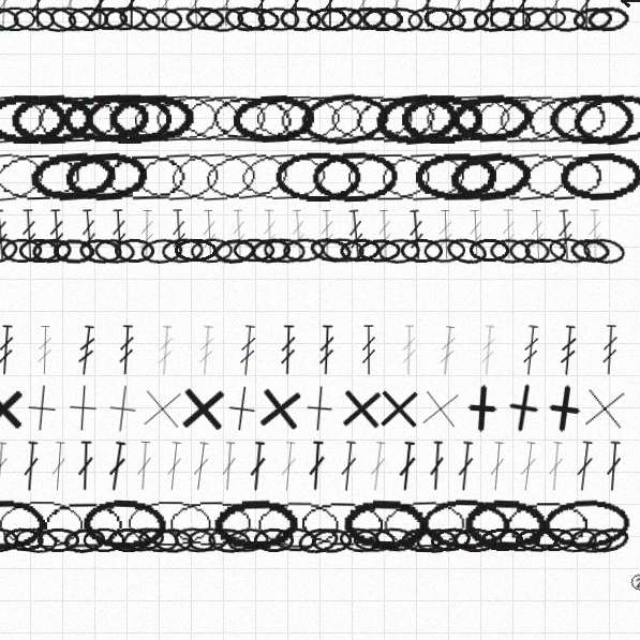chain: (220, 177, 305, 232), (311, 124, 397, 177), (449, 178, 531, 232), (359, 124, 441, 177), (380, 124, 462, 177), (520, 124, 602, 177), (483, 178, 565, 231), (58, 179, 141, 231), (385, 179, 469, 230), (154, 125, 237, 176), (189, 179, 272, 230), (91, 179, 172, 231), (0, 178, 77, 232), (538, 504, 621, 554), (226, 125, 307, 176), (157, 179, 238, 230), (517, 179, 598, 230), (564, 124, 640, 178), (255, 180, 337, 230), (451, 125, 531, 176), (175, 126, 258, 175), (25, 180, 108, 229), (247, 126, 328, 176), (89, 126, 171, 175), (201, 126, 283, 175), (291, 126, 373, 175), (338, 126, 420, 175), (427, 126, 509, 175), (495, 126, 577, 175), (543, 126, 625, 175), (387, 504, 469, 553), (425, 504, 507, 553), (0, 125, 77, 177), (553, 180, 633, 230), (64, 126, 145, 175), (132, 126, 213, 175), (474, 126, 555, 175), (322, 180, 403, 229), (108, 504, 189, 553), (41, 126, 121, 175), (127, 180, 207, 229), (230, 504, 310, 553), (351, 504, 431, 553), (464, 504, 544, 553), (29, 505, 112, 552), (270, 505, 351, 553), (310, 505, 391, 553), (288, 181, 370, 228), (269, 127, 350, 174), (149, 505, 230, 552), (188, 505, 269, 552), (501, 505, 582, 552), (418, 181, 497, 229), (69, 505, 148, 553), (112, 127, 192, 174), (354, 181, 434, 228), (17, 127, 96, 174), (405, 127, 484, 174), (0, 505, 74, 553), (446, 259, 489, 289), (308, 529, 350, 559), (578, 529, 620, 559), (141, 43, 184, 72), (542, 259, 585, 288), (319, 259, 361, 288), (574, 260, 617, 288), (9, 259, 50, 288), (63, 44, 105, 72), (77, 44, 119, 72), (45, 530, 86, 558), (90, 530, 131, 558), (411, 44, 453, 71), (193, 530, 235, 557), (240, 44, 281, 71), (505, 44, 546, 71), (145, 530, 186, 557), (432, 530, 473, 557), (162, 261, 204, 287), (265, 260, 305, 287), (347, 530, 387, 557), (252, 45, 293, 71), (386, 45, 427, 71), (426, 45, 467, 71), (472, 45, 513, 71), (520, 45, 561, 71), (105, 261, 146, 287), (230, 261, 271, 287), (384, 261, 425, 287), (225, 531, 266, 557), (10, 45, 50, 71), (317, 45, 357, 71), (565, 45, 605, 71), (119, 261, 159, 287), (243, 531, 283, 557), (419, 531, 459, 557), (128, 45, 169, 70), (330, 45, 371, 70), (209, 261, 250, 286), (331, 261, 372, 286), (380, 531, 421, 556), (563, 261, 602, 287), (292, 45, 332, 70), (579, 45, 619, 70), (182, 261, 222, 286), (277, 261, 317, 286), (295, 261, 335, 286), (348, 261, 388, 286), (34, 531, 74, 556), (160, 531, 200, 556), (206, 531, 246, 556), (549, 531, 589, 556), (365, 262, 406, 286), (204, 45, 243, 70), (354, 45, 393, 70), (61, 261, 100, 286), (182, 46, 222, 70), (220, 46, 260, 70), (272, 46, 312, 70), (540, 46, 580, 70), (488, 262, 528, 286), (361, 532, 401, 556), (512, 532, 552, 556), (564, 532, 604, 556), (44, 46, 83, 70), (164, 46, 203, 70), (450, 46, 489, 70), (81, 262, 120, 286), (427, 262, 466, 286), (506, 262, 545, 286), (174, 532, 213, 556), (322, 532, 361, 556), (194, 262, 234, 285), (249, 262, 289, 285), (405, 262, 445, 285), (66, 532, 106, 555), (109, 532, 149, 555), (132, 532, 172, 555), (455, 532, 495, 555), (480, 532, 520, 555), (26, 46, 65, 69), (369, 46, 408, 69), (488, 46, 527, 69), (33, 262, 72, 285), (49, 262, 88, 285), (138, 262, 177, 285), (469, 262, 508, 285), (521, 262, 560, 285), (268, 532, 307, 555), (288, 532, 327, 555), (406, 532, 445, 555), (497, 532, 536, 555), (530, 532, 569, 555), (95, 46, 133, 69), (114, 46, 152, 69), (11, 532, 49, 555)
double: (130, 451, 152, 499), (209, 451, 230, 499), (374, 451, 395, 499), (514, 451, 535, 499), (567, 451, 588, 499), (392, 19, 412, 67), (22, 451, 42, 499), (291, 451, 311, 499), (347, 451, 367, 499), (402, 451, 422, 499), (77, 451, 96, 499), (185, 451, 204, 499), (236, 451, 255, 499), (263, 451, 282, 499), (457, 451, 476, 499), (486, 451, 505, 499), (541, 451, 560, 499), (595, 451, 614, 499), (88, 19, 107, 66), (157, 451, 176, 498), (318, 451, 337, 498), (52, 451, 70, 499), (27, 19, 45, 66), (451, 19, 469, 66), (206, 19, 223, 66), (235, 19, 252, 66), (362, 19, 379, 66), (571, 19, 588, 66), (103, 451, 120, 498), (431, 451, 448, 498), (59, 19, 75, 66), (179, 19, 195, 66), (268, 19, 284, 66), (300, 19, 316, 66), (332, 19, 348, 66), (423, 19, 439, 66), (482, 19, 498, 66), (512, 19, 528, 66), (543, 19, 559, 66), (118, 19, 133, 66), (147, 19, 162, 66)
noise: (608, 33, 640, 47), (618, 573, 638, 593), (0, 130, 18, 150)
single: (494, 394, 547, 447), (120, 395, 172, 447), (231, 395, 283, 447), (267, 395, 319, 447), (532, 395, 584, 447), (417, 395, 468, 447), (45, 395, 96, 446), (570, 395, 621, 446), (158, 396, 208, 446), (196, 396, 246, 446), (305, 396, 355, 446), (344, 396, 394, 446), (457, 396, 507, 446), (85, 396, 134, 445), (10, 397, 58, 445), (380, 397, 428, 445)
treble: (102, 343, 123, 391), (439, 343, 460, 391), (354, 235, 374, 283), (253, 343, 273, 391), (517, 343, 537, 391), (552, 343, 572, 391), (23, 235, 42, 283), (411, 235, 430, 283), (550, 235, 569, 283), (177, 343, 196, 391), (215, 343, 234, 391), (478, 343, 497, 391), (301, 235, 320, 282), (28, 343, 47, 390), (50, 235, 68, 282), (76, 235, 94, 282), (106, 235, 124, 282), (134, 235, 152, 282), (190, 235, 208, 282), (218, 235, 236, 282), (246, 235, 264, 282), (382, 235, 400, 282), (524, 235, 542, 282), (141, 343, 159, 390), (592, 343, 610, 390), (275, 235, 292, 282), (439, 235, 456, 282), (467, 235, 484, 282), (65, 343, 82, 390), (292, 343, 309, 390), (328, 343, 345, 390), (405, 343, 422, 390), (161, 235, 177, 282), (329, 235, 345, 282), (498, 235, 514, 282), (579, 235, 595, 282), (368, 343, 384, 390)
